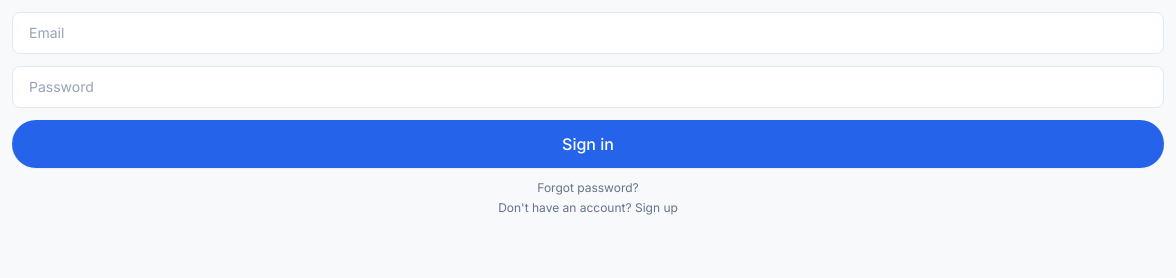
EmailPasswordForm › clears the error as soon as the user edits a field
Type "jane@example.com" into the field with placeholder "Email".
click(588, 33); type("jane@example.com")  # box [12, 12, 1164, 54]
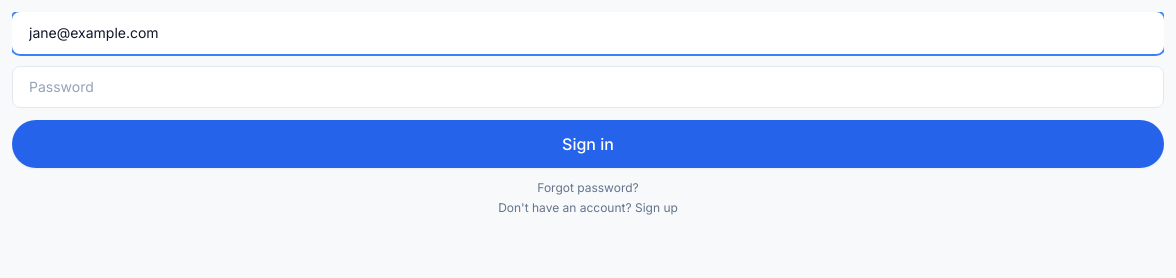
Type "wrong-pass" into the password field with placeholder "Password".
click(588, 87); type("wrong-pass")  # box [12, 66, 1164, 108]
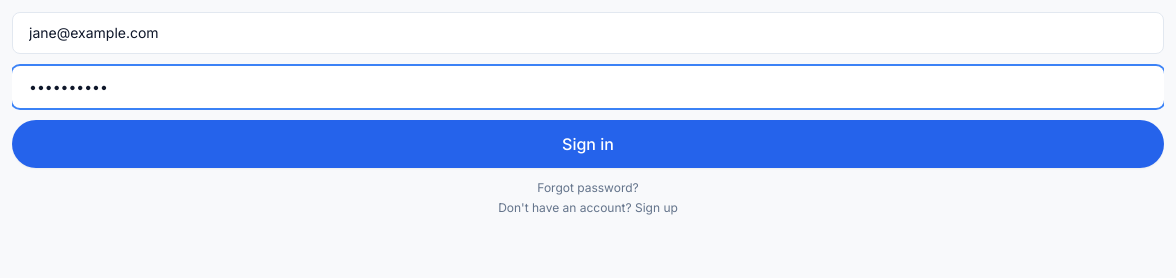
Click the button "Sign in".
click(588, 144)  # box [12, 120, 1164, 168]
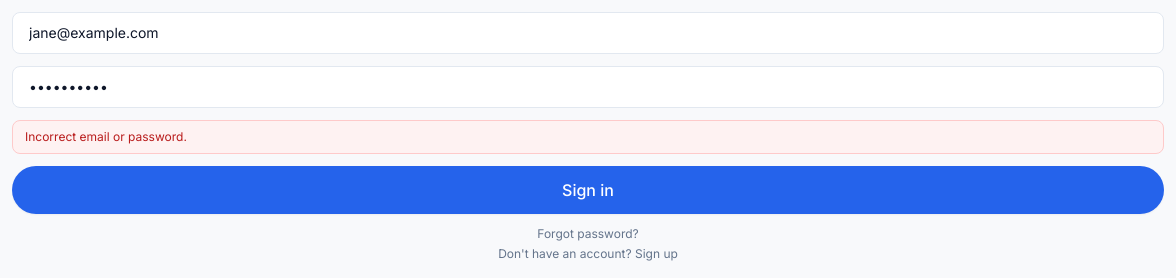
expect the text "Incorrect email or password." is shown: met, box [12, 120, 1164, 154]
Type "x" into the password field with placeholder "Password".
click(588, 87); type("x")  # box [12, 66, 1164, 108]
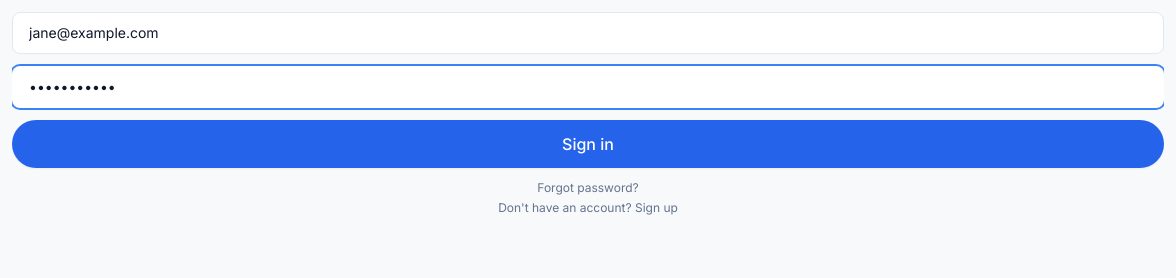
expect the text "Incorrect email or password." is gone: met
